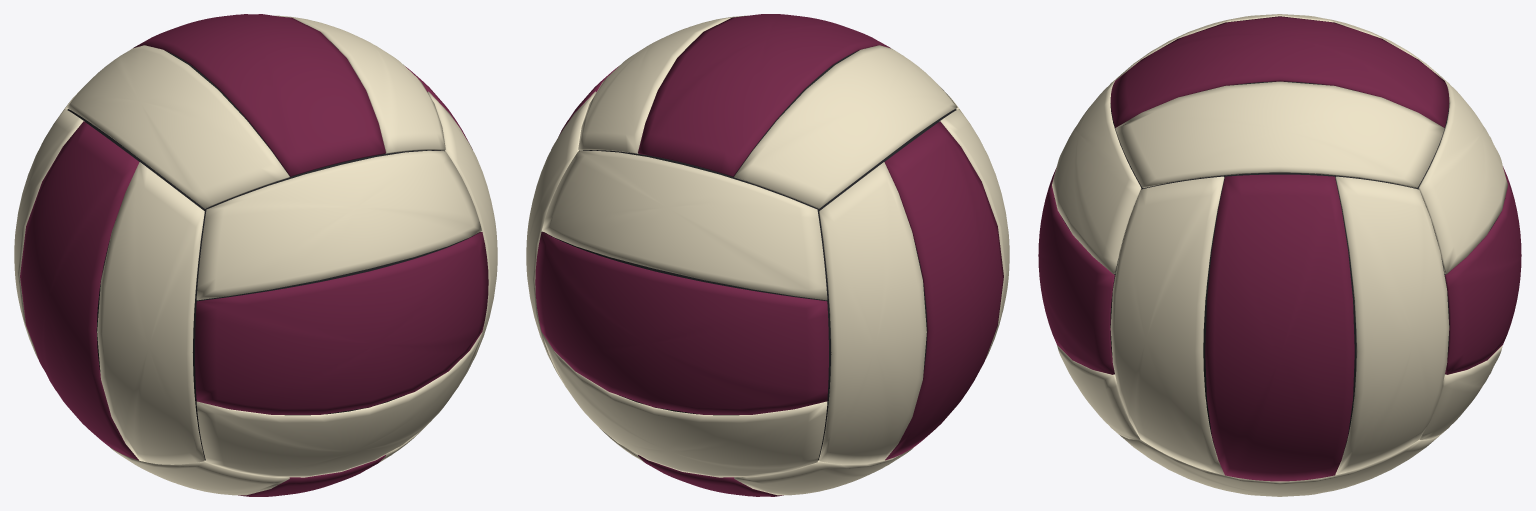
The picture shows the model from 3 angles, left to right: view 1: azimuth 30°, elevation 25°; view 2: azimuth 150°, elevation 25°; view 3: azimuth 270°, elevation 25°; orthographic projection.
Parts seen in each view (by area): view 1: MESH_Netball; view 2: MESH_Netball; view 3: MESH_Netball.
Part boxes in pixels (x1=…): MESH_Netball: x1=14, y1=14, x2=497, y2=496; MESH_Netball: x1=526, y1=14, x2=1009, y2=496; MESH_Netball: x1=1038, y1=14, x2=1521, y2=496.
Size of the model in its own units: 0.2228 by 0.2228 by 0.2228.
